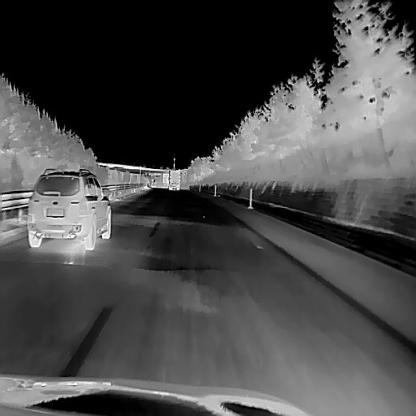car: (26, 168, 110, 250)
truck: (168, 169, 180, 190)
